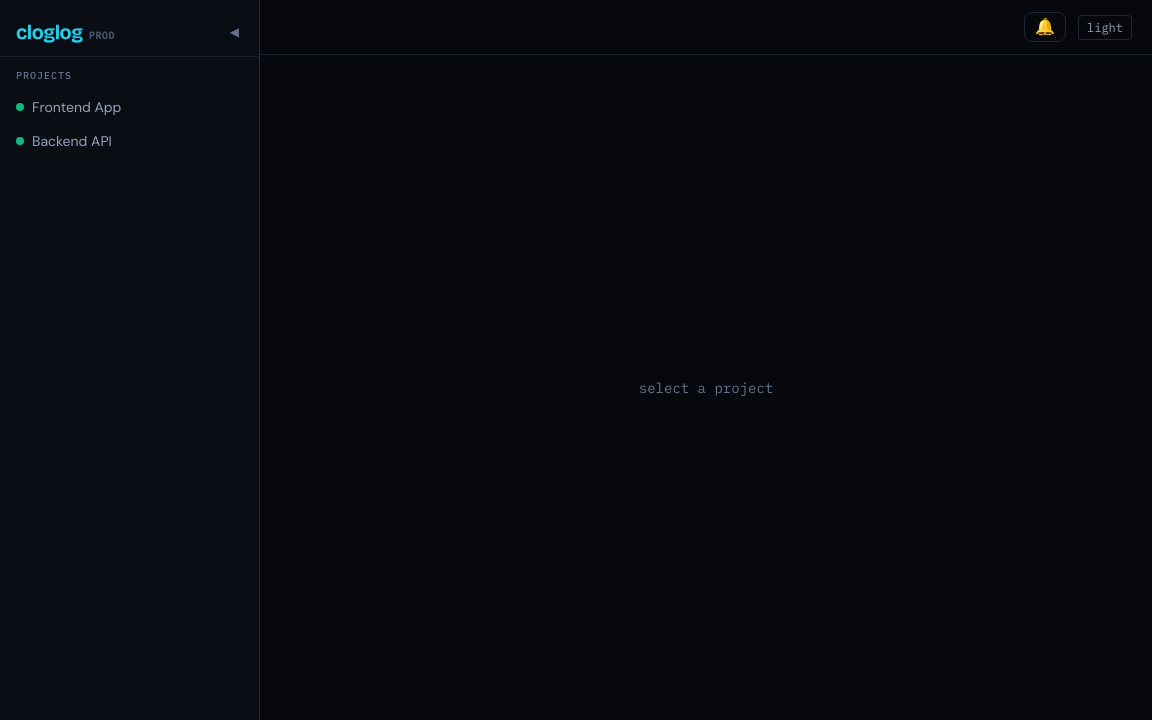
Test: App integration › clicking a task card opens the detail panel
The width and height of the screenshot is (1152, 720).
Expected: the text "Frontend App" is shown, [32, 98, 121, 116]
What coordinates should you click on to do the following:
click the button "Frontend App"
I would click on:
 (130, 107)
Its box is [0, 90, 259, 124].
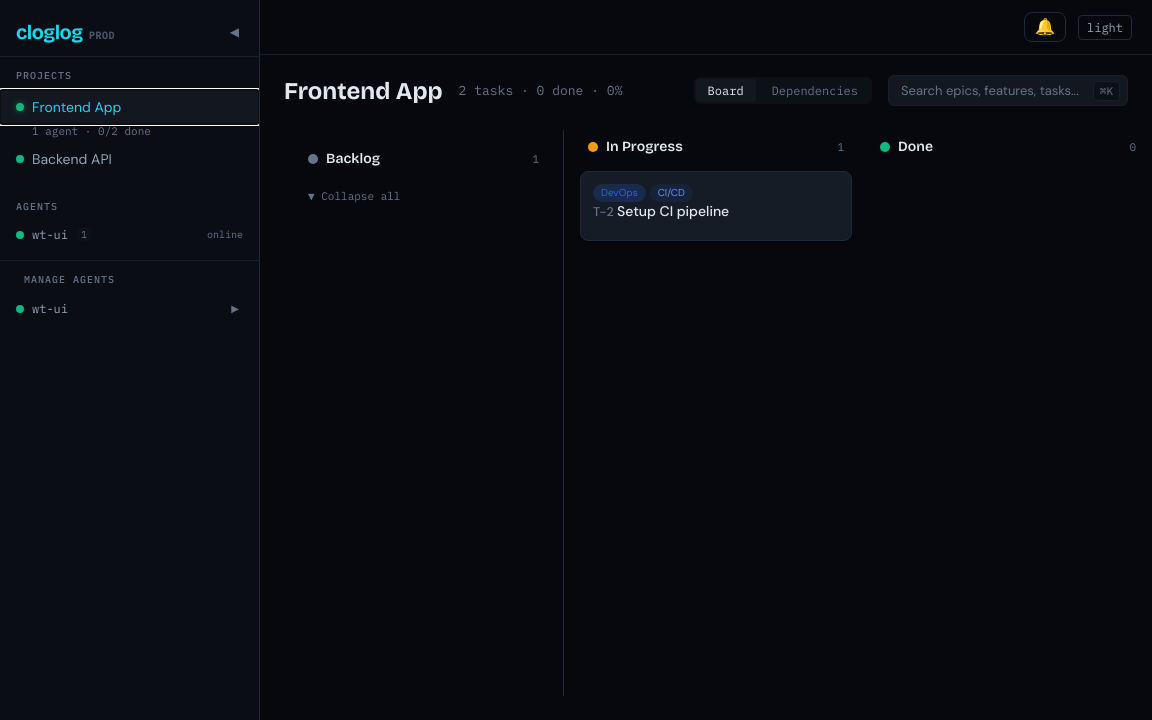
What coordinates should you click on to do the following:
click the text "Setup CI pipeline"
I would click on:
 (661, 211)
Its box is [593, 202, 729, 220].
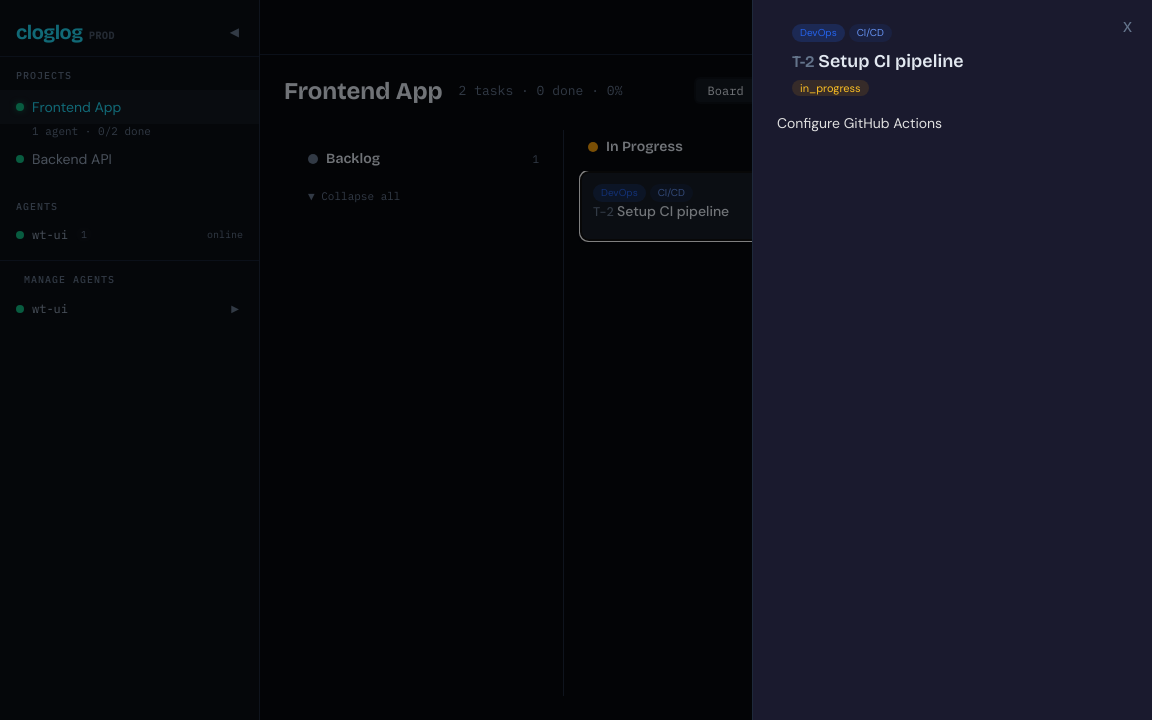
Result: the text "Configure GitHub Actions" is shown at [777, 114, 942, 132]
